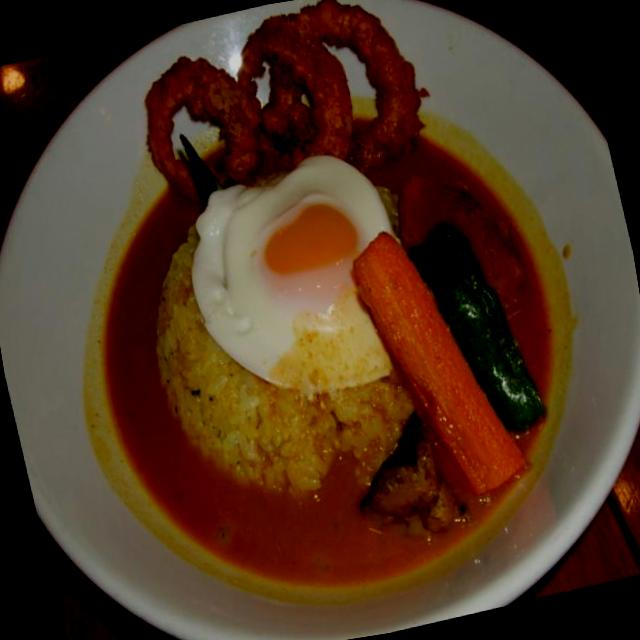Egg: (168, 132, 426, 400)
